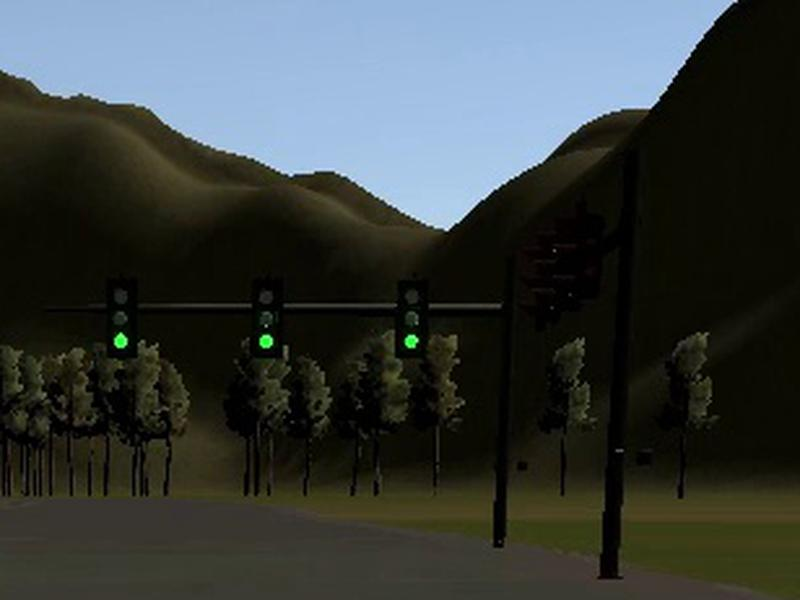Green: (395, 281, 429, 359), (250, 279, 283, 358), (106, 277, 138, 358)
